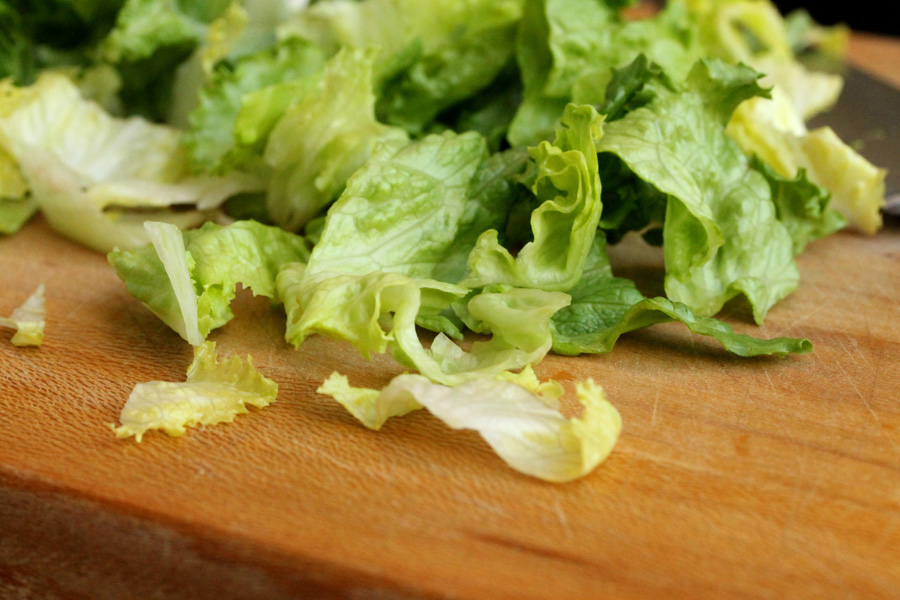chopped lettuce: (16, 4, 856, 440)
